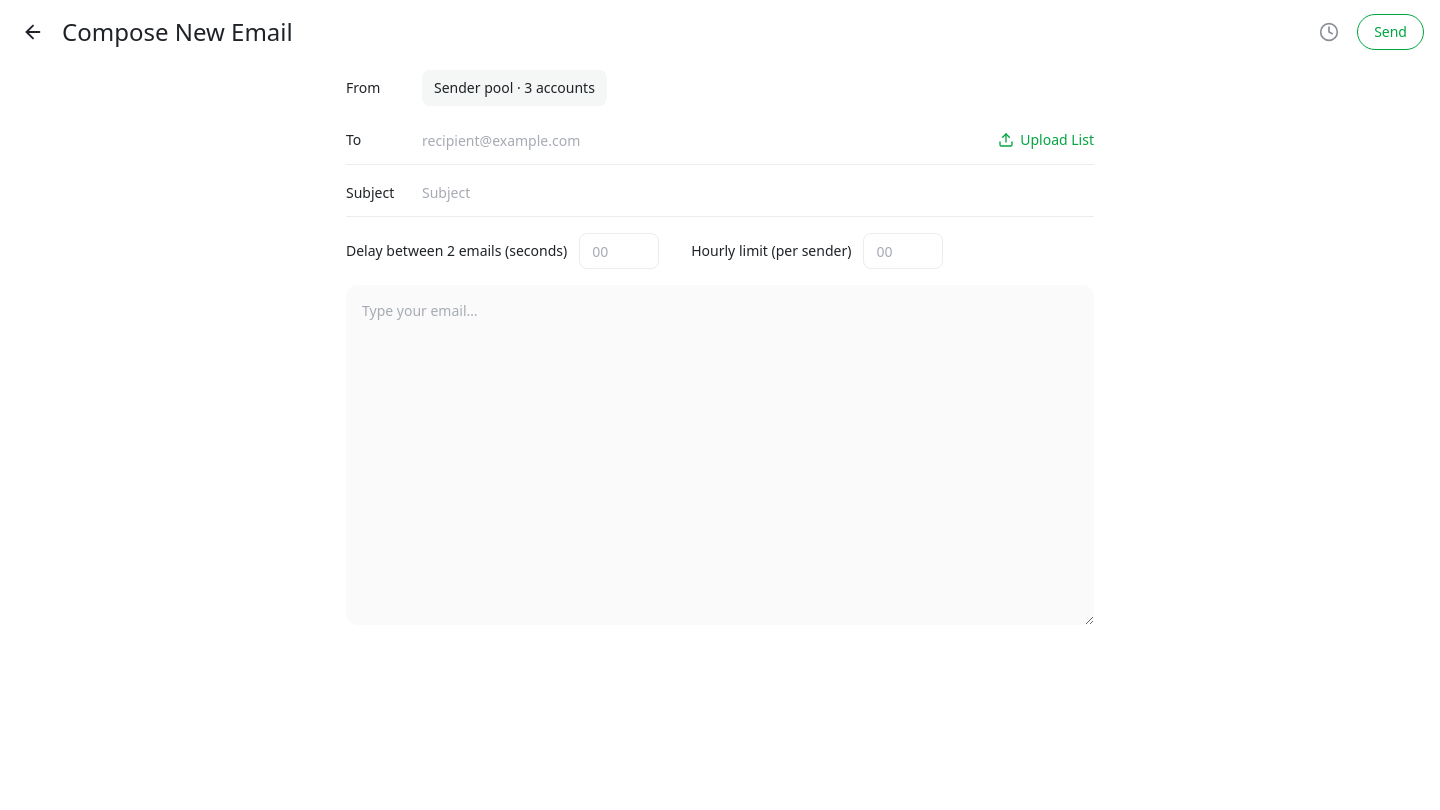
Send / Send Later › a time in the past shows that sending starts immediately
The width and height of the screenshot is (1440, 810).
Step 1. Click the button named "Schedule send time" → (1329, 32), box [1313,16,1345,48]
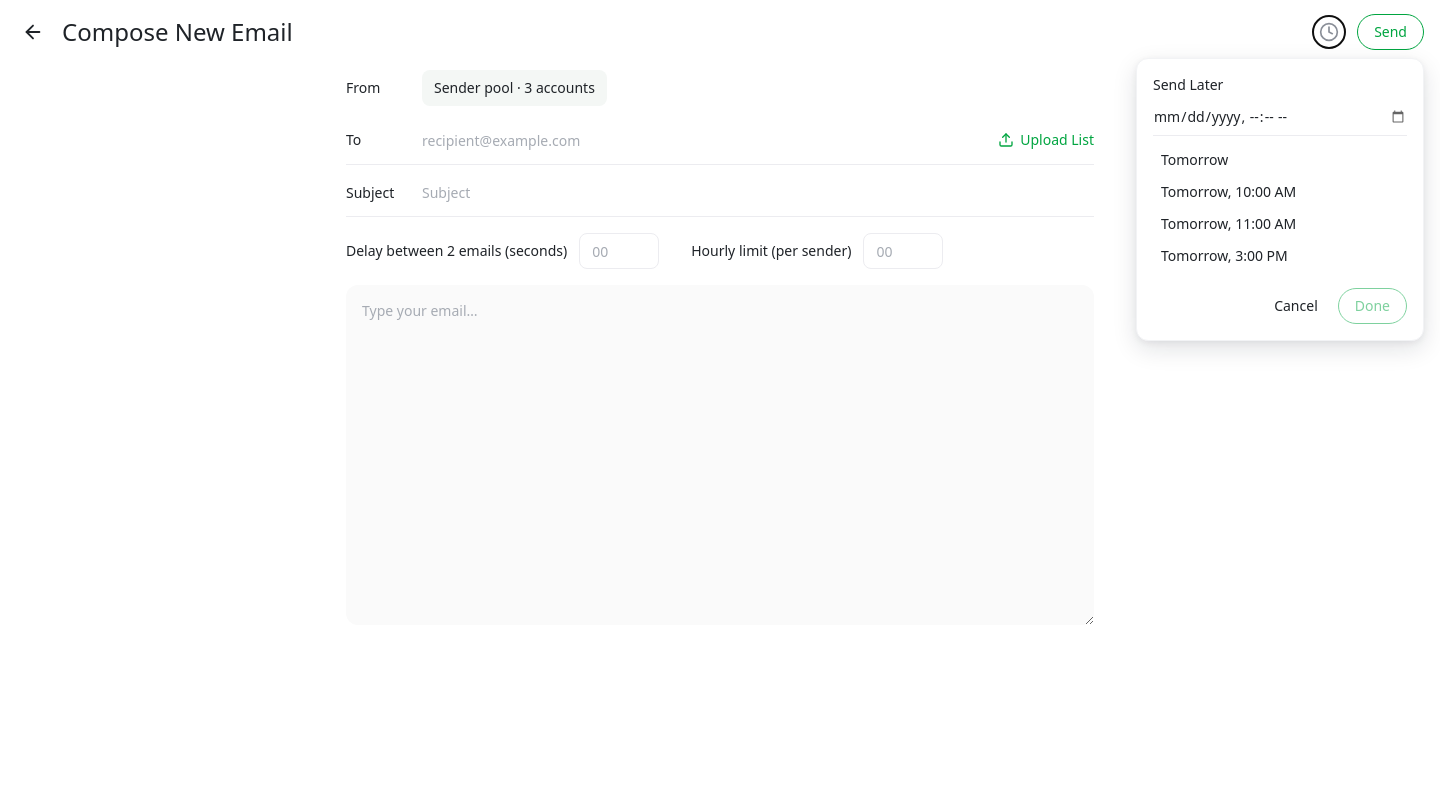
Step 2. Type "2020-01-01T09:00" into the field named "Pick date & time" → (1280, 117), box [1153,107,1407,127]
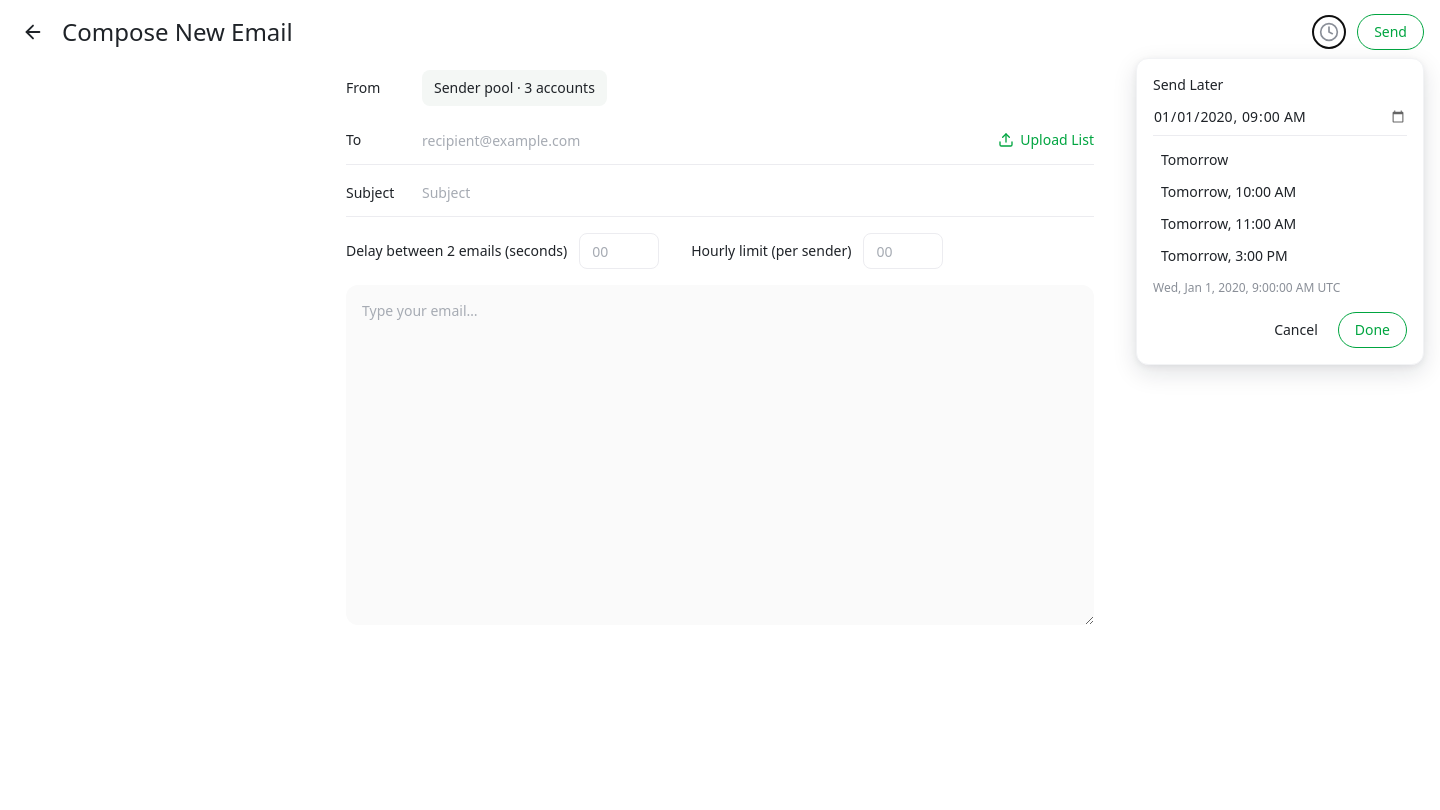
Step 3. Click the button "Done" → (1372, 330), box [1338,312,1407,348]
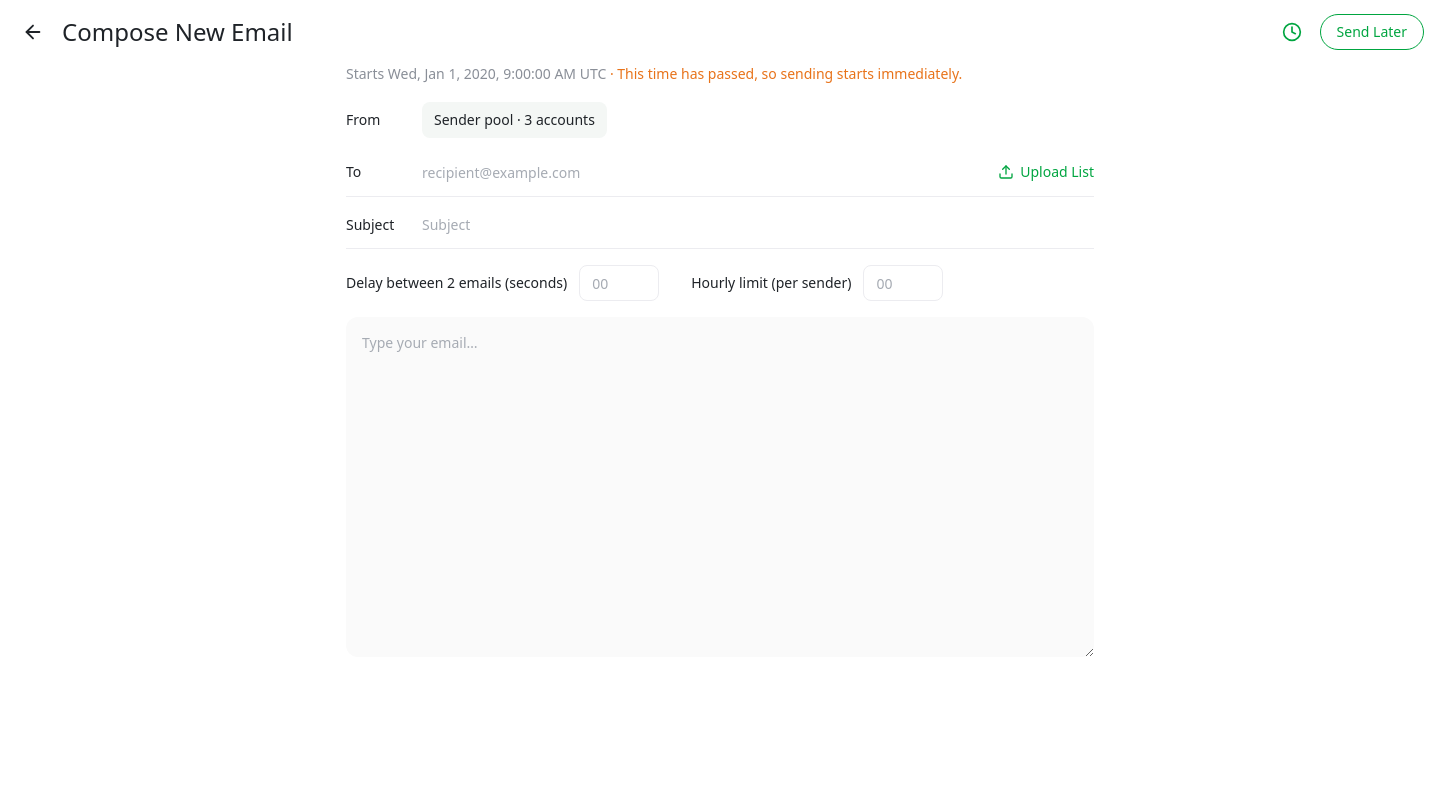
expect the text "· This time has passed, so sending starts immediately." is shown: met, box [606,64,962,83]
